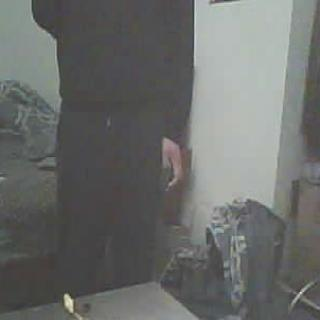Navy Sweatpants: (55, 106, 161, 289)
